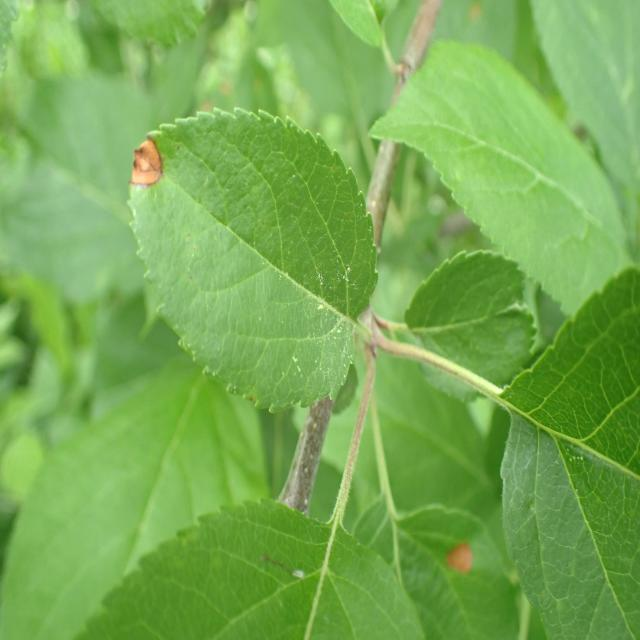frog-eye-leaf-spot: (127, 104, 379, 415)
